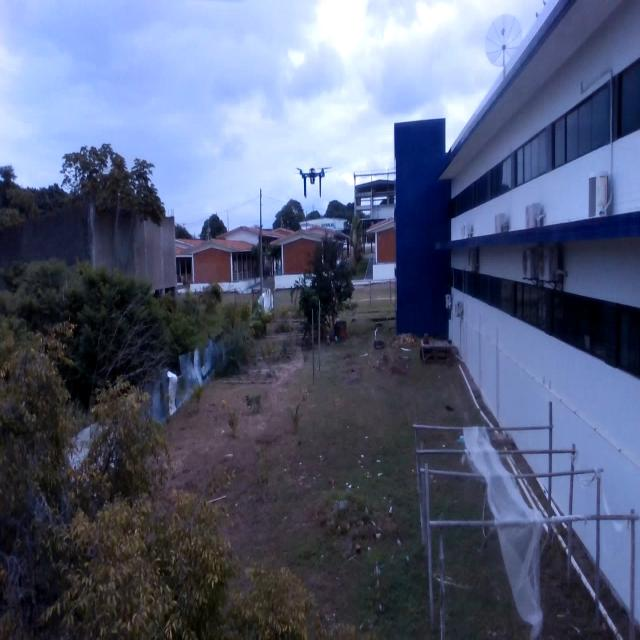-uav-: (291, 158, 336, 202)
